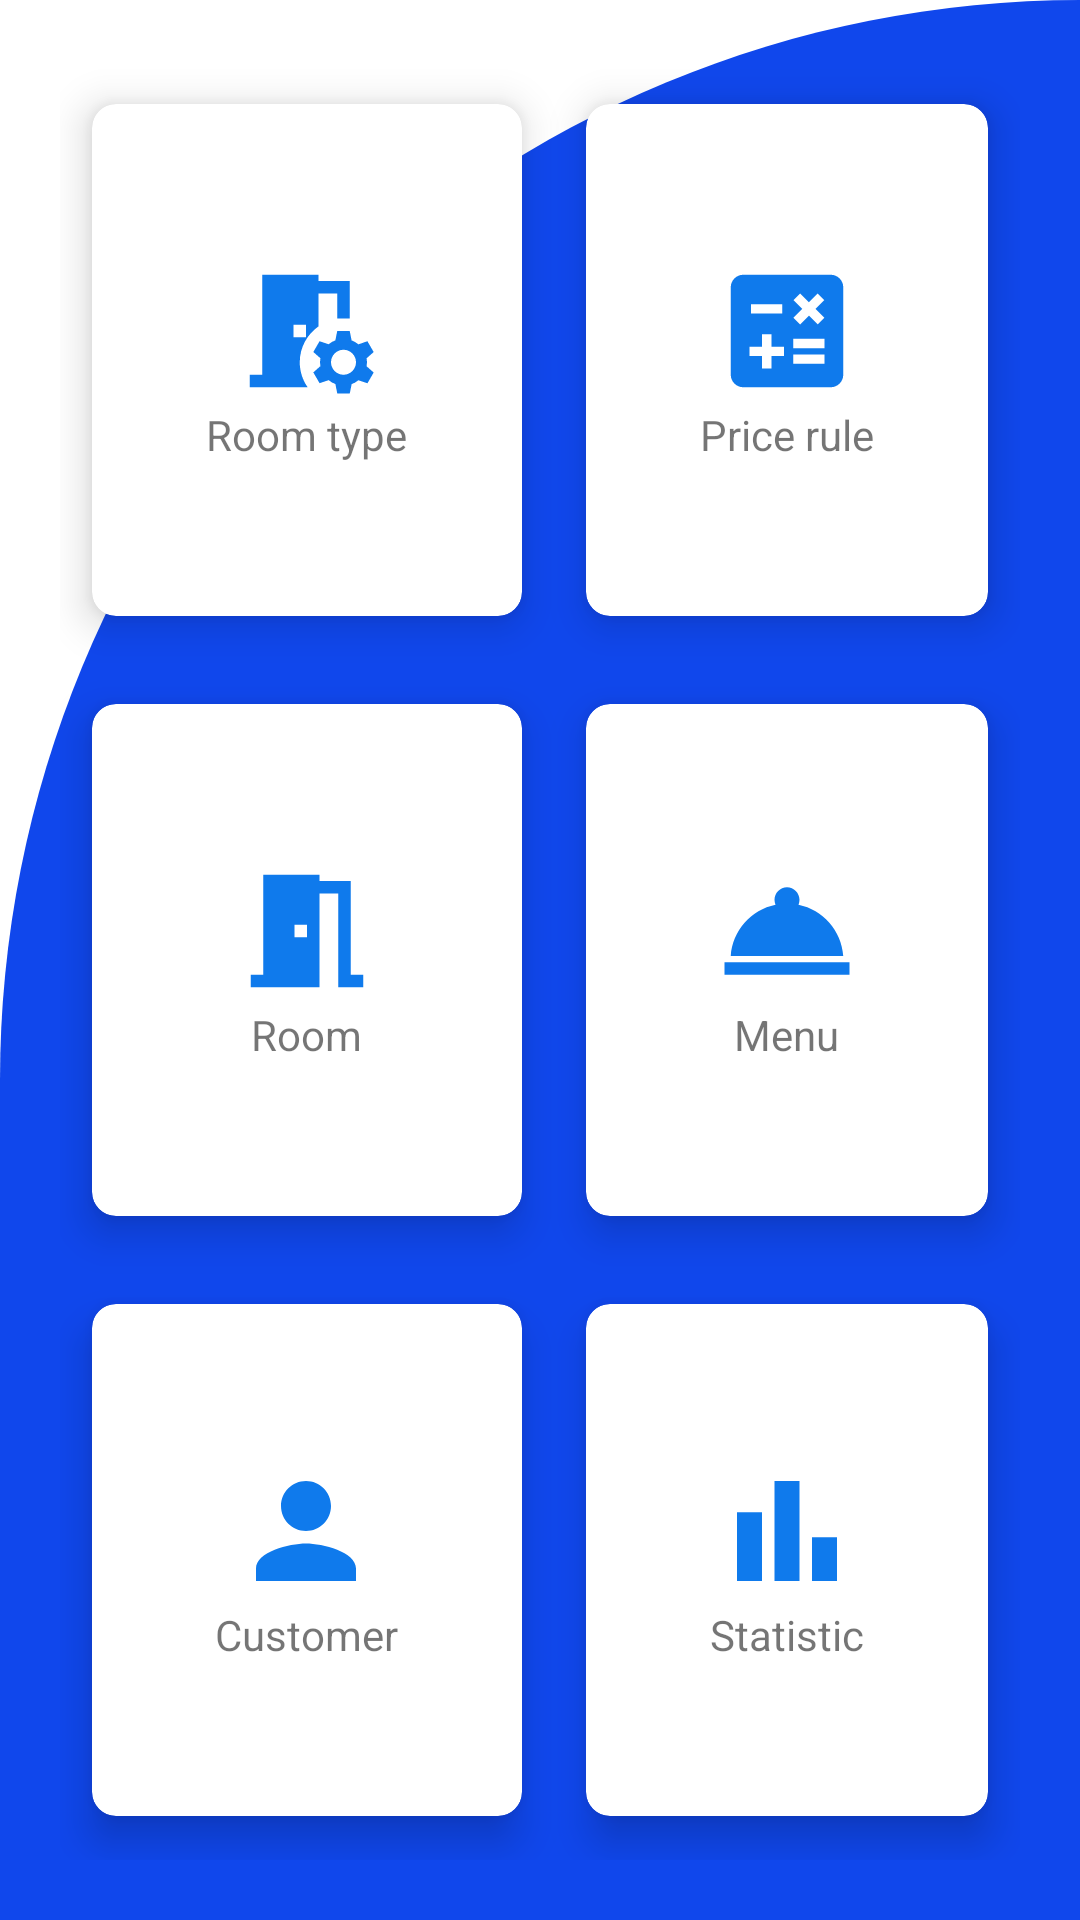

Where icons sit on this 1080px x 1920px app screen, as (left=x1, top=y1, right=x2, bottom=y2):
caculate: (left=730, top=274, right=844, bottom=388)
service: (left=724, top=887, right=850, bottom=975)
